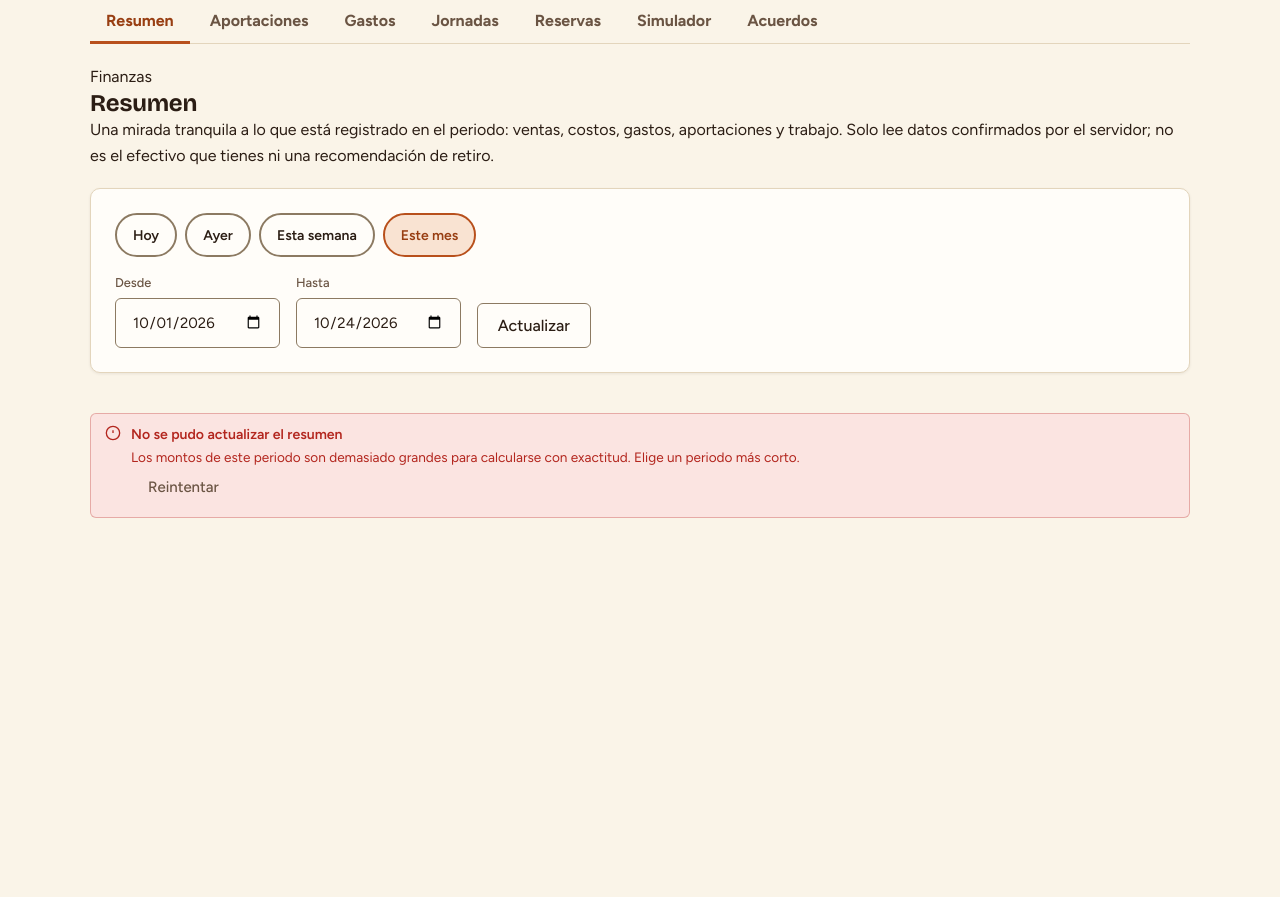
Test case: overview screen: freshness and states › shows an error with retry when there is no previous data, and retry loads it
Click the button with test id "retry" at (183, 487), box [131,467,236,507]
(page scrolled)
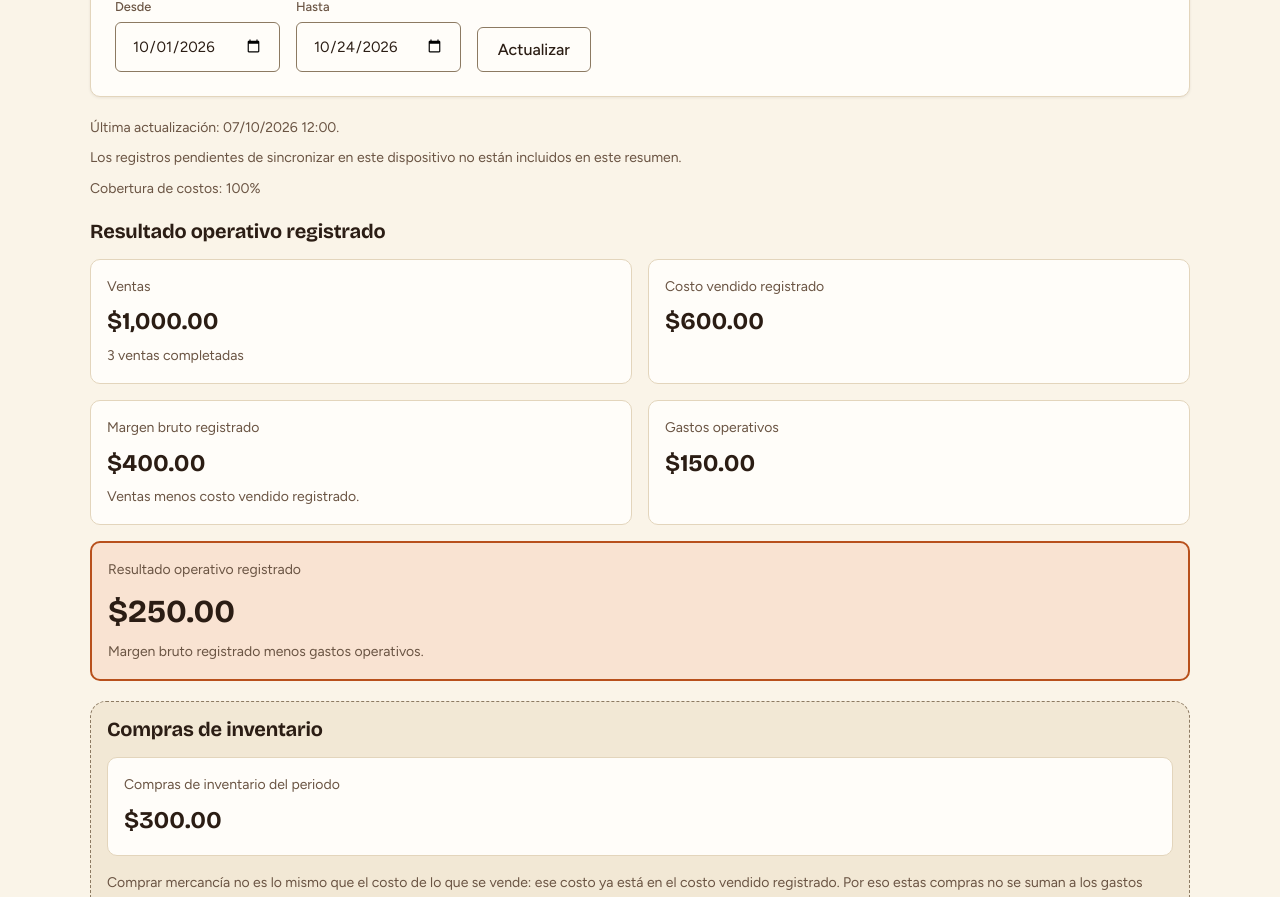
Result: the element with test id "operating" is shown at [90,220,1190,681]
Result: the text "No se pudo actualizar el resumen" is gone
